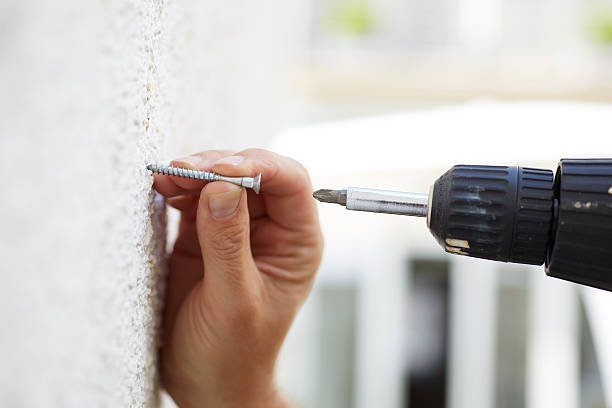driller: (310, 153, 612, 297)
